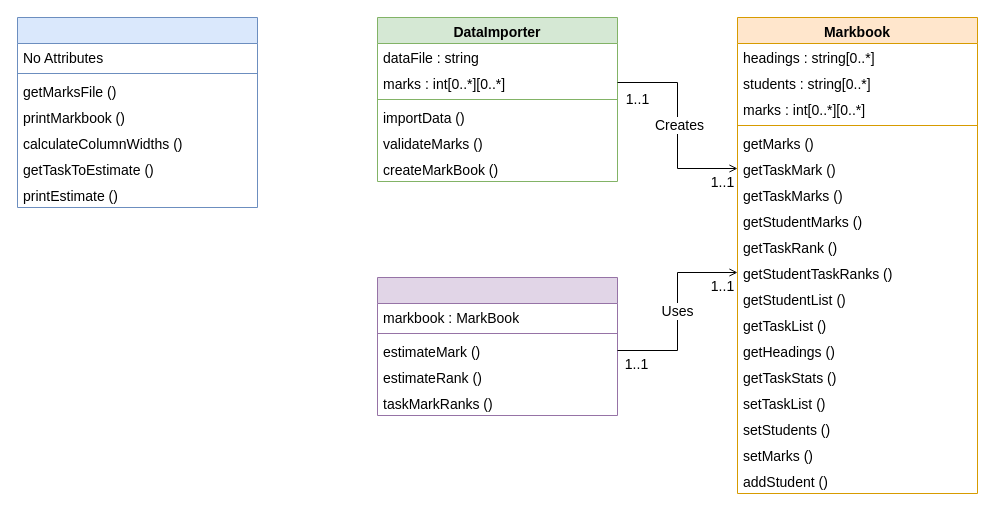
Some shapes in this 995 by 514 pixel diagram are drawn without their labels. The shapes that lost their labels are listed below. From the top down, each one's box as (x1, y1, x2, y2) in pixels, then its label:
(16, 16, 258, 208): UI
(376, 276, 618, 416): DataProcessor
